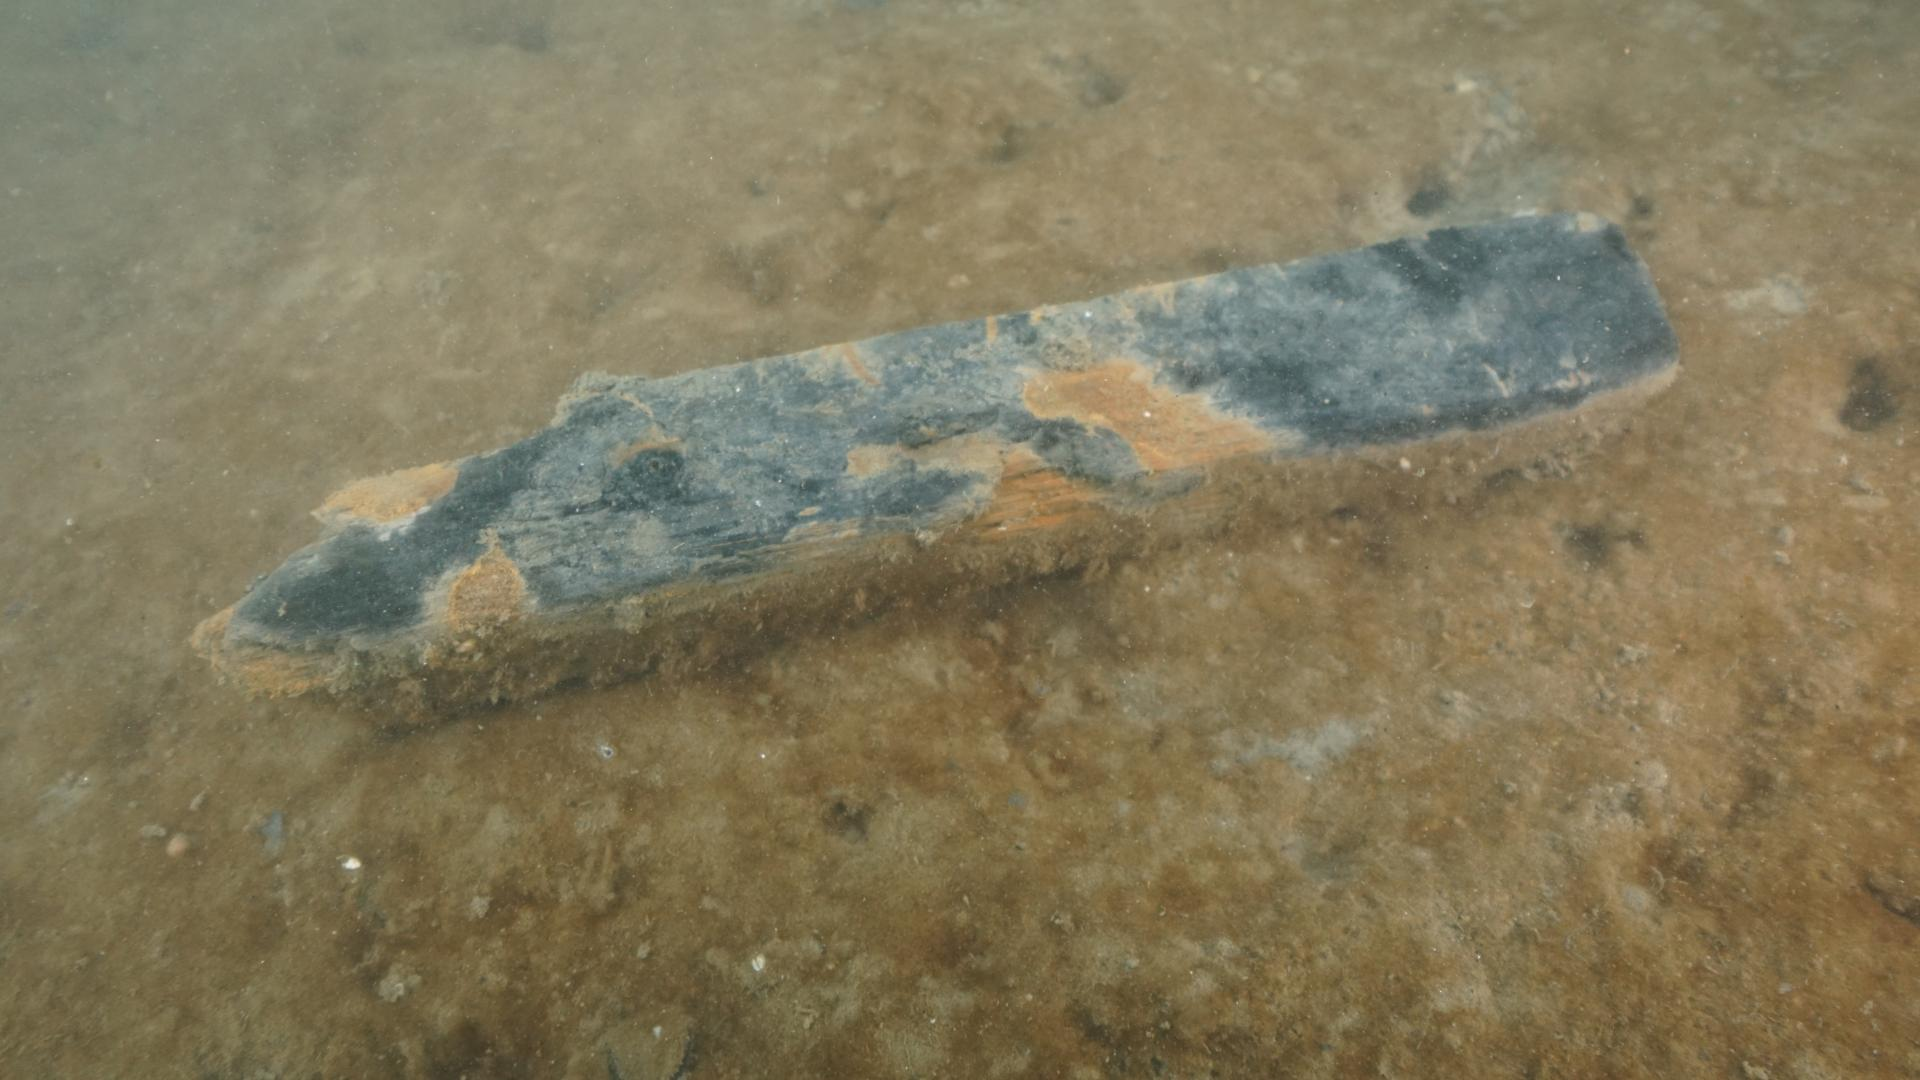wood: (177, 200, 1688, 737)
